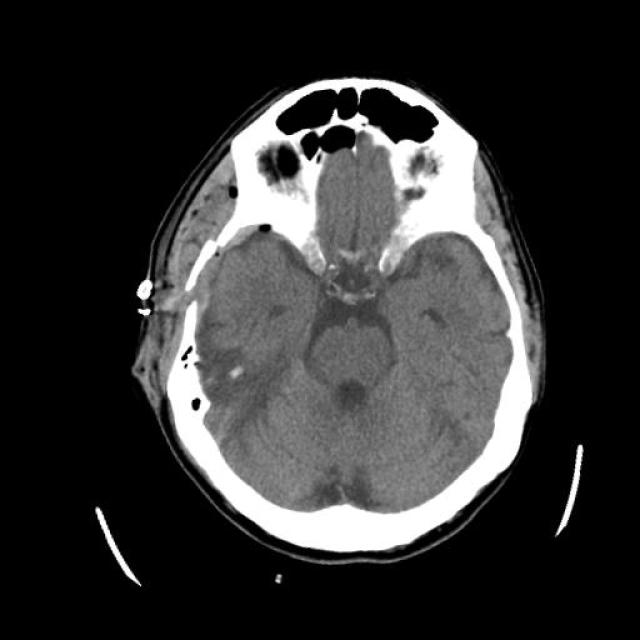Subdural: (150, 214, 286, 354)
